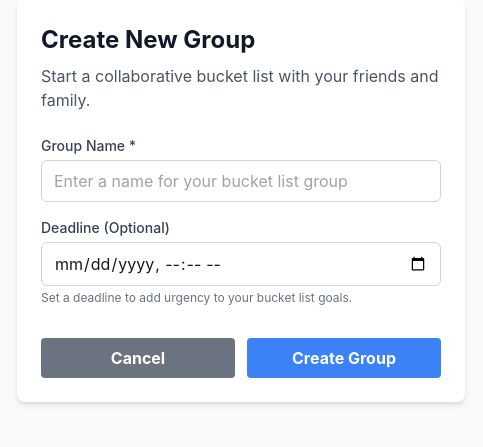
Test: CreateGroupForm › validates deadline is in the future
The width and height of the screenshot is (483, 447).
Type "Test Group" into the field labelled "Group Name *" at [241, 181], box [41, 160, 441, 202]
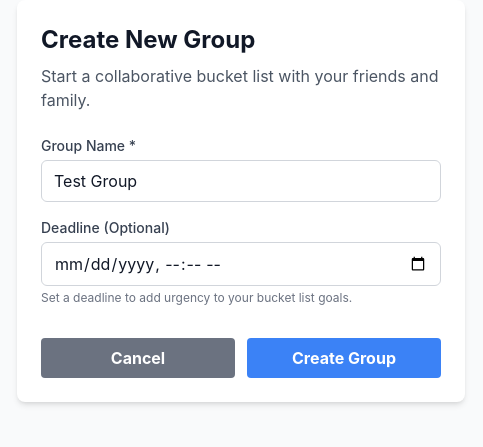
Type "2020-01-01T00:00" into the field labelled "Deadline (Optional)" at [241, 264], box [41, 242, 441, 286]
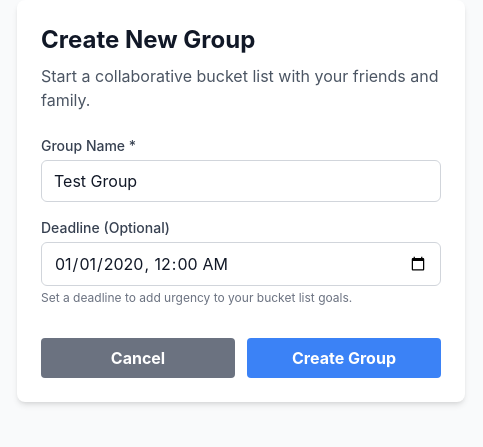
Click the button "Create Group" at [344, 358], box [247, 338, 441, 378]
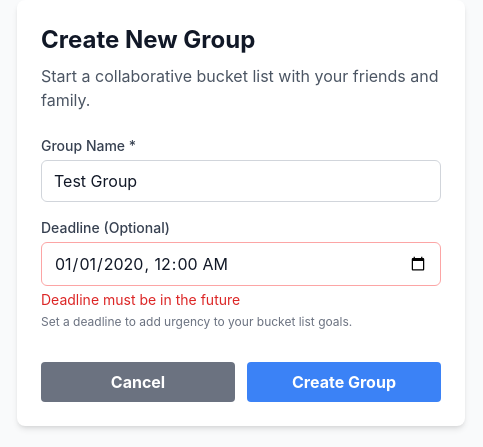
Check: the text "Deadline must be in the future" is shown, box [41, 291, 240, 308]
